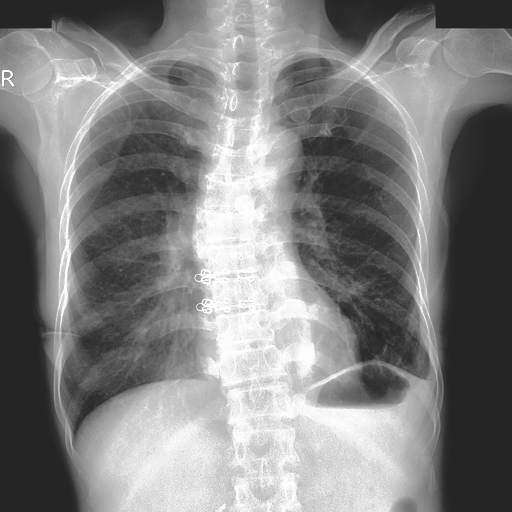Calcification: (413, 366, 440, 402)
Consolidation: (246, 125, 300, 178)
Other lesion: (42, 328, 82, 340), (289, 104, 312, 121)
Pleural effusion: (412, 367, 437, 393), (423, 375, 446, 395)
Pneumothorax: (337, 296, 391, 377)
